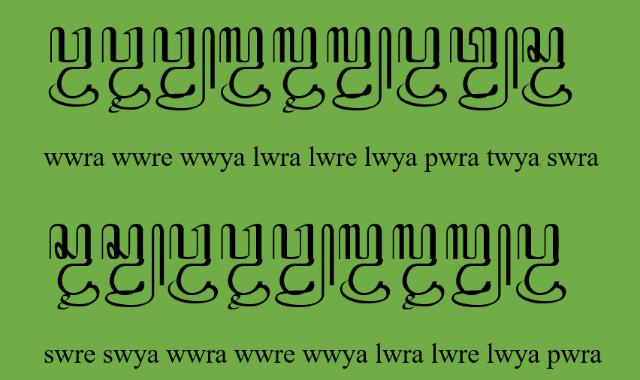lwr: (219, 26, 271, 108), (338, 224, 390, 304)
lwre: (274, 26, 326, 114), (392, 222, 444, 309)
lwy: (326, 27, 392, 111), (446, 224, 512, 308)
pwr: (396, 26, 448, 108), (516, 224, 566, 304)
swr: (522, 26, 572, 108)
swre: (48, 223, 100, 311)
swy: (101, 224, 165, 308)
twy: (449, 27, 518, 111)
wwr: (167, 223, 219, 303), (48, 26, 98, 108)
wwre: (101, 26, 151, 114), (220, 224, 270, 310)
wwy: (272, 223, 336, 307), (154, 27, 216, 112)
